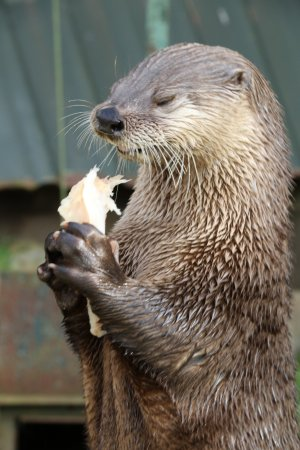otter: (40, 31, 300, 433)
